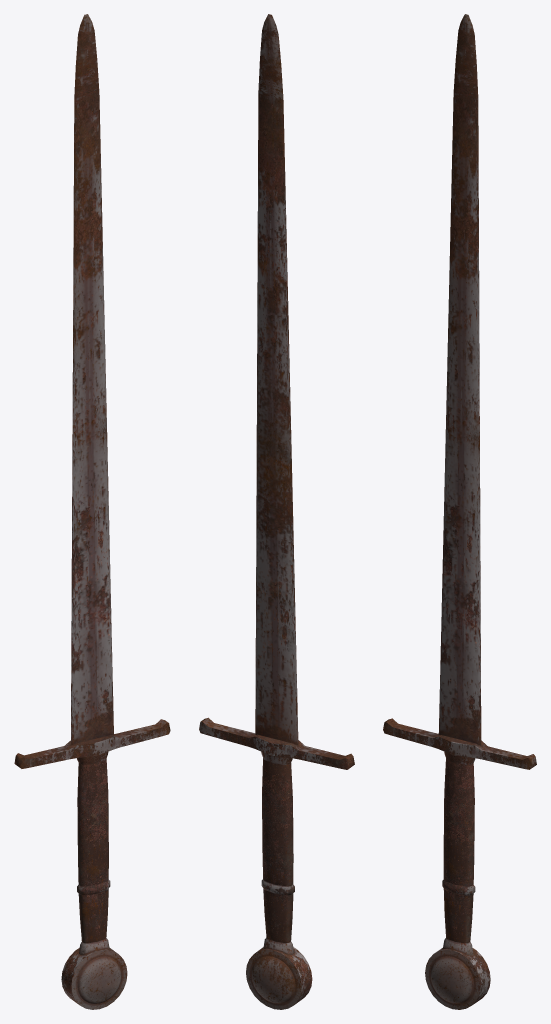
The model's file is меч.glb.
3 renders of one model, left to right at view 1: azimuth 30°, elevation 25°; view 2: azimuth 150°, elevation 25°; view 3: azimuth 330°, elevation 25°, orthographic.
Parts seen in each view (by area): view 1: Sheathe_LOD0; view 2: Sheathe_LOD0; view 3: Sheathe_LOD0.
Part boxes in pixels (x1,y1,x2,y2): Sheathe_LOD0: [14, 14, 170, 1009]; Sheathe_LOD0: [199, 14, 354, 1009]; Sheathe_LOD0: [383, 14, 536, 1009].
Bounding box in the file's own units: 0.1669 × 1.04 × 0.0328.
Materials: 1 (1 with a texture image).
